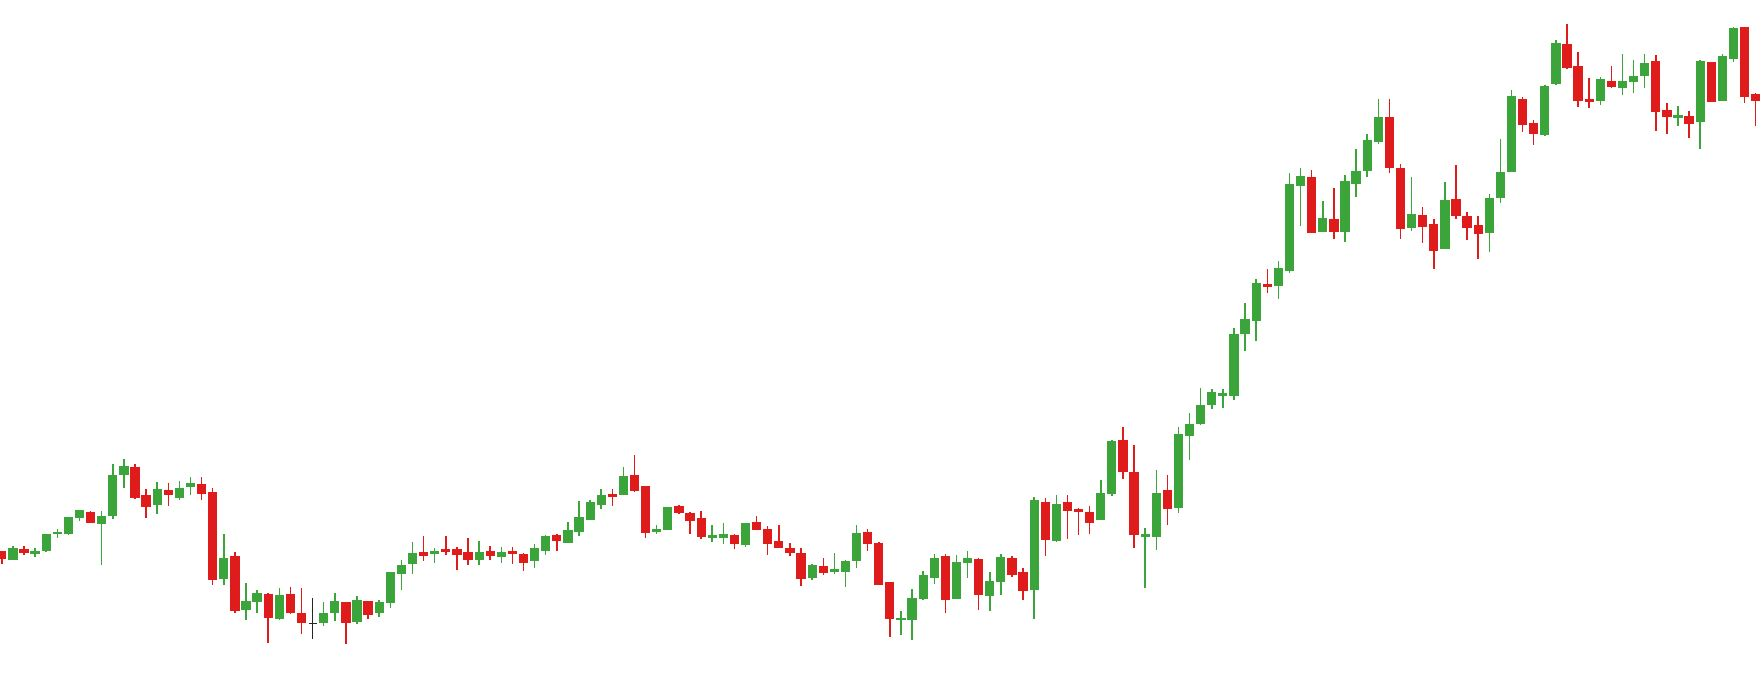buy: (1061, 478, 1165, 593), (836, 543, 927, 645)
